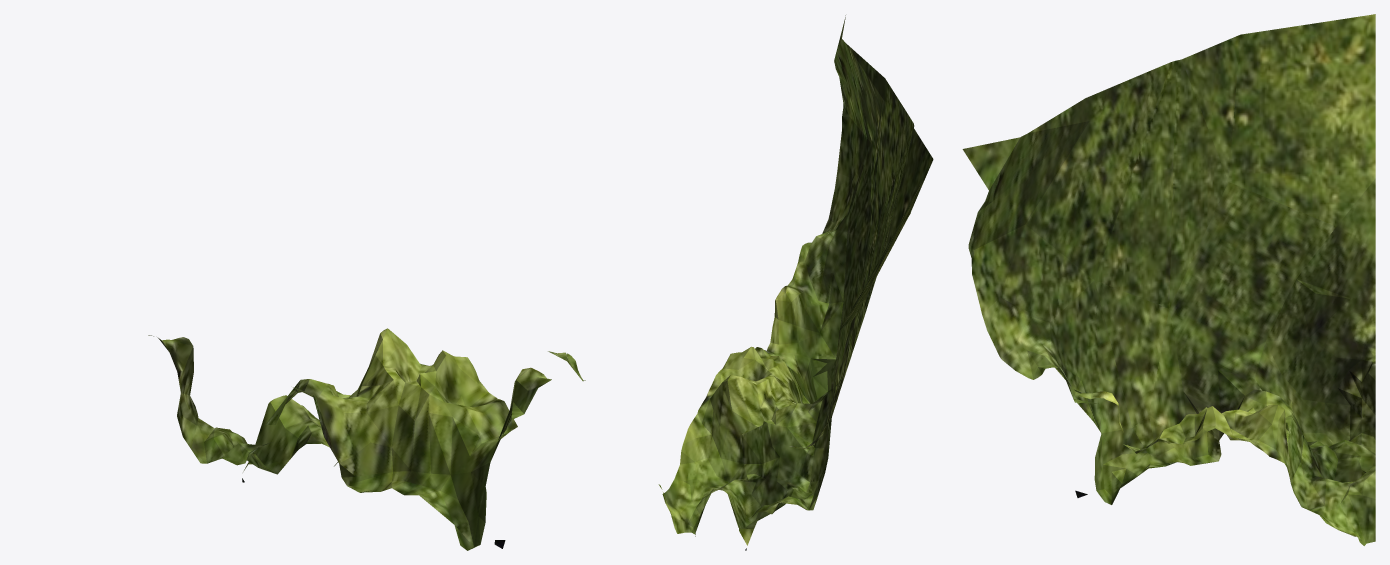
3 views of the same model, side by side, from view 1: azimuth 30°, elevation 25°; view 2: azimuth 150°, elevation 25°; view 3: azimuth 270°, elevation 25° (orthographic). The views are drawn at different scales.
Size of the model in its own units: 2.07 by 2.95 by 2.68.
3 materials, 3 textured.
